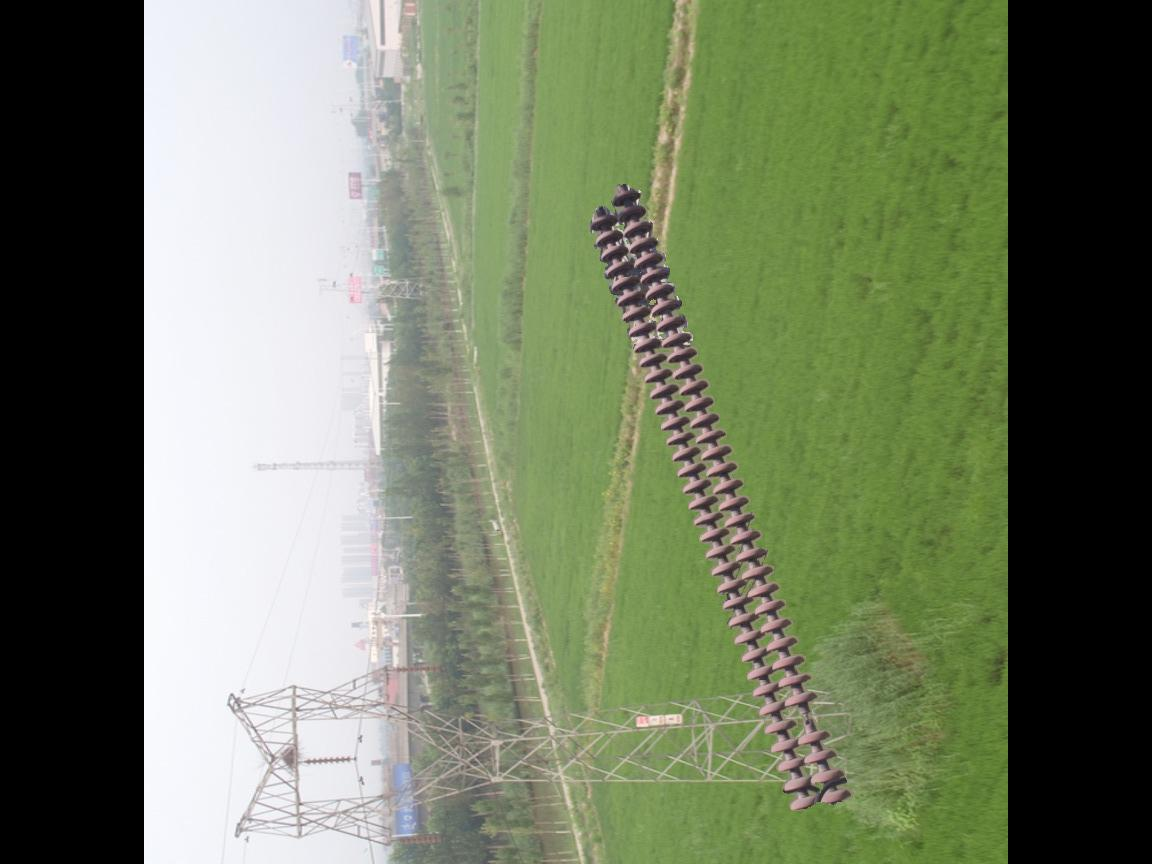insulator: (585, 180, 860, 814), (301, 752, 357, 769)
insulator_stringdrop: (782, 688, 833, 750)
